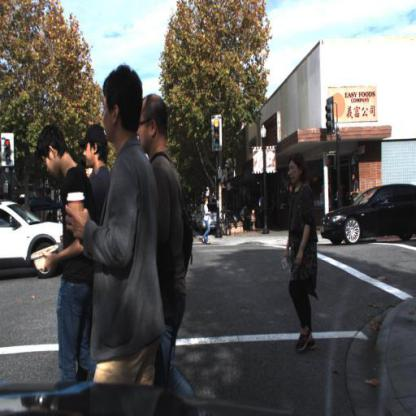car: (318, 183, 416, 256), (2, 197, 68, 285)
pedestrian: (77, 63, 174, 416), (135, 88, 195, 416), (38, 122, 94, 393), (280, 149, 326, 362), (197, 191, 217, 247), (345, 170, 366, 207), (260, 193, 268, 227)
trafficLight: (210, 111, 226, 157), (2, 129, 16, 161)
